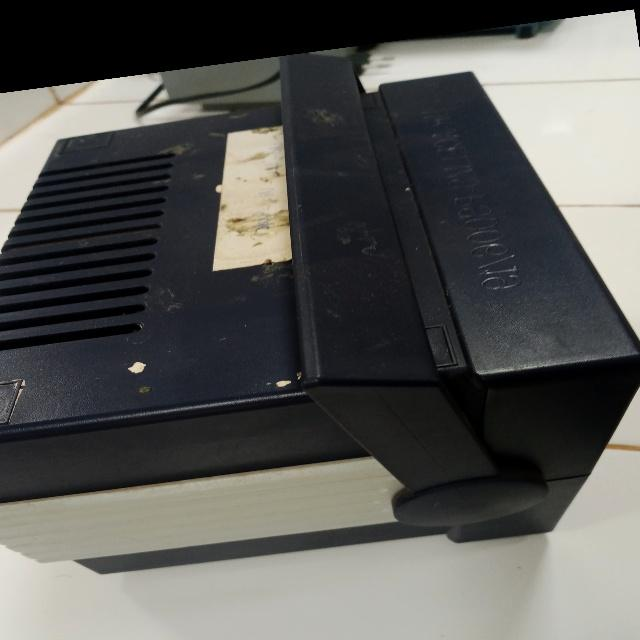Cobra 4 Xpert link Power Supply: (0, 27, 640, 621)
